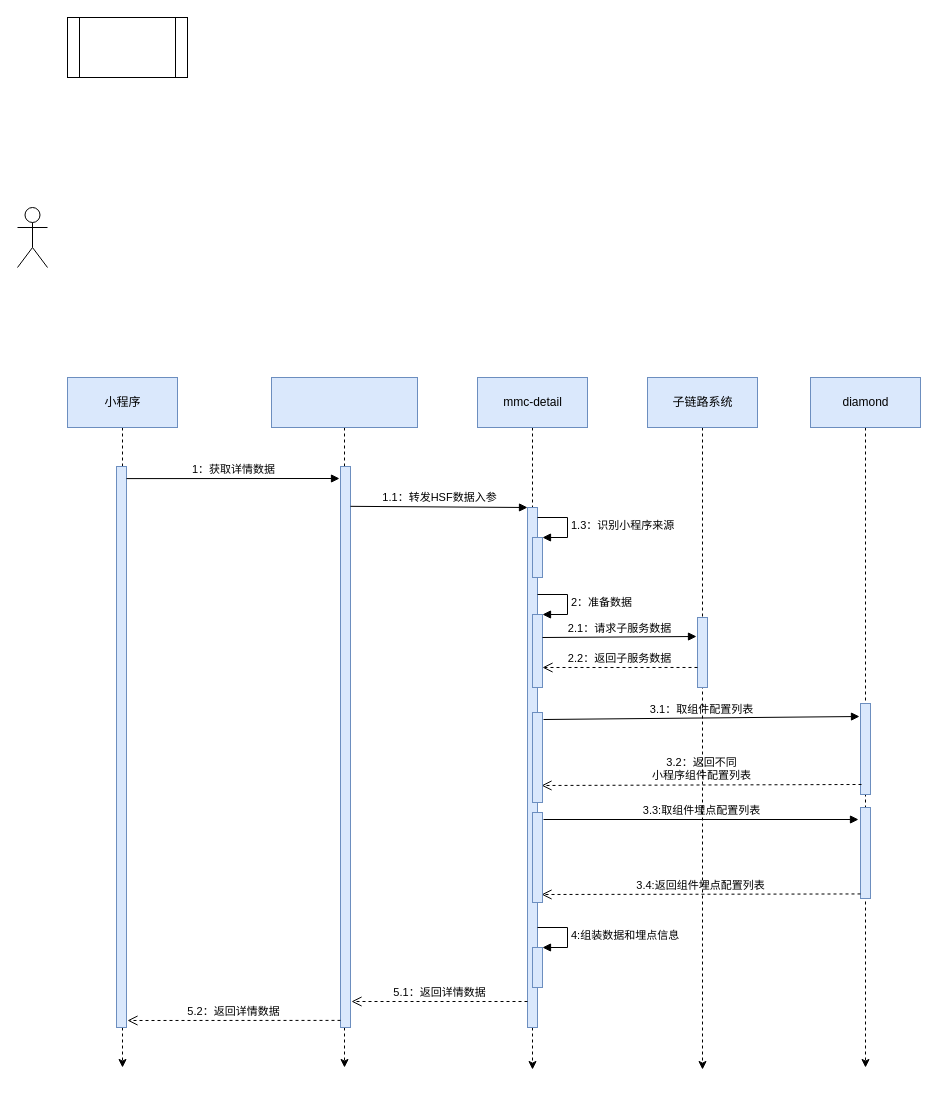
This 938x1095 diagram has some shape labels left out. The box of each missing label's shape, as (x1, y1, x2, y2) in pixels:
Actor: (16, 206, 48, 268)
wdk-youxuan-channel: (270, 376, 418, 428)
